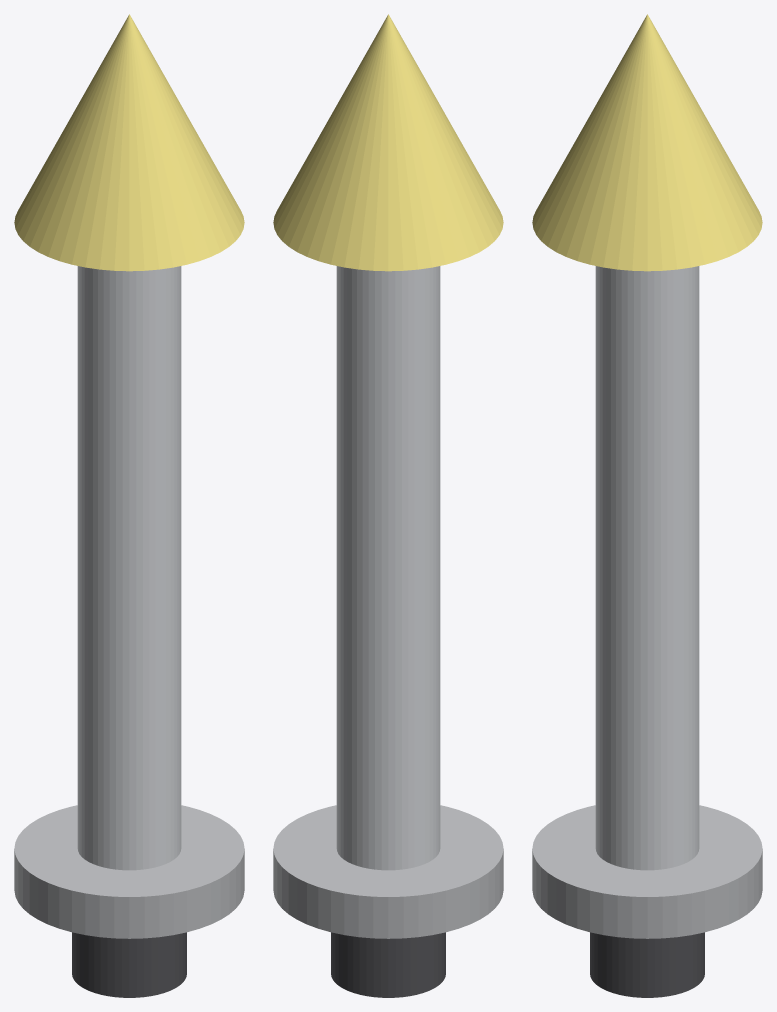
Rendered from lamp.gltf.
3 views of the same model, side by side, from view 1: azimuth 30°, elevation 25°; view 2: azimuth 150°, elevation 25°; view 3: azimuth 270°, elevation 25° (orthographic).
Visible parts, largest first — view 1: pole, shade, base, weight; view 2: pole, shade, base, weight; view 3: pole, shade, base, weight.
Part boxes in pixels (<box>): pole: <box>77,266,181,870</box>; shade: <box>14,14,244,271</box>; base: <box>14,805,244,938</box>; weight: <box>72,932,186,997</box>; pole: <box>336,266,440,870</box>; shade: <box>273,14,503,271</box>; base: <box>273,805,503,938</box>; weight: <box>331,932,445,997</box>; pole: <box>595,266,699,870</box>; shade: <box>532,14,762,271</box>; base: <box>532,805,762,938</box>; weight: <box>590,932,704,997</box>.
Bounding box in the file's own units: 1 × 4.6 × 1.
